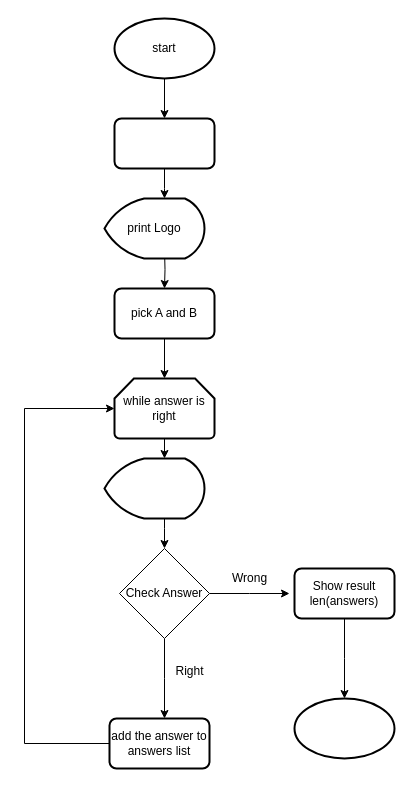
Image size: 413x786. Some labels were removed from this diagram. The shapes that lost their labels are listed below. From the top down, each one's box as (x1, y1, x2, y2) in pixels, then its label:
(113, 117, 215, 169): import logo, data and models
(103, 457, 205, 519): Show A vs B
(293, 697, 395, 759): Finish
